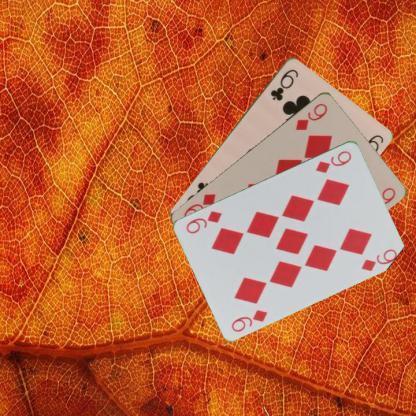6c: (267, 66, 300, 102)
9d: (292, 100, 329, 132), (228, 306, 269, 333), (313, 148, 353, 174)
